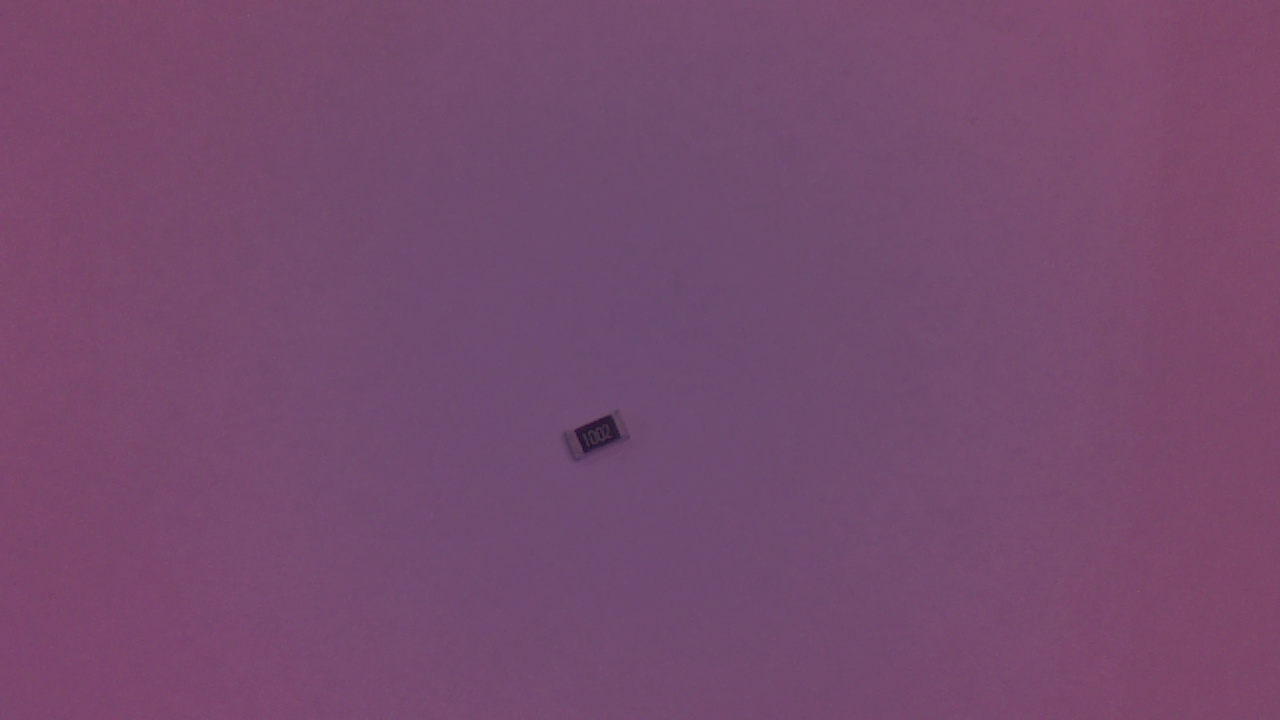Resistor: (566, 410, 641, 473)
